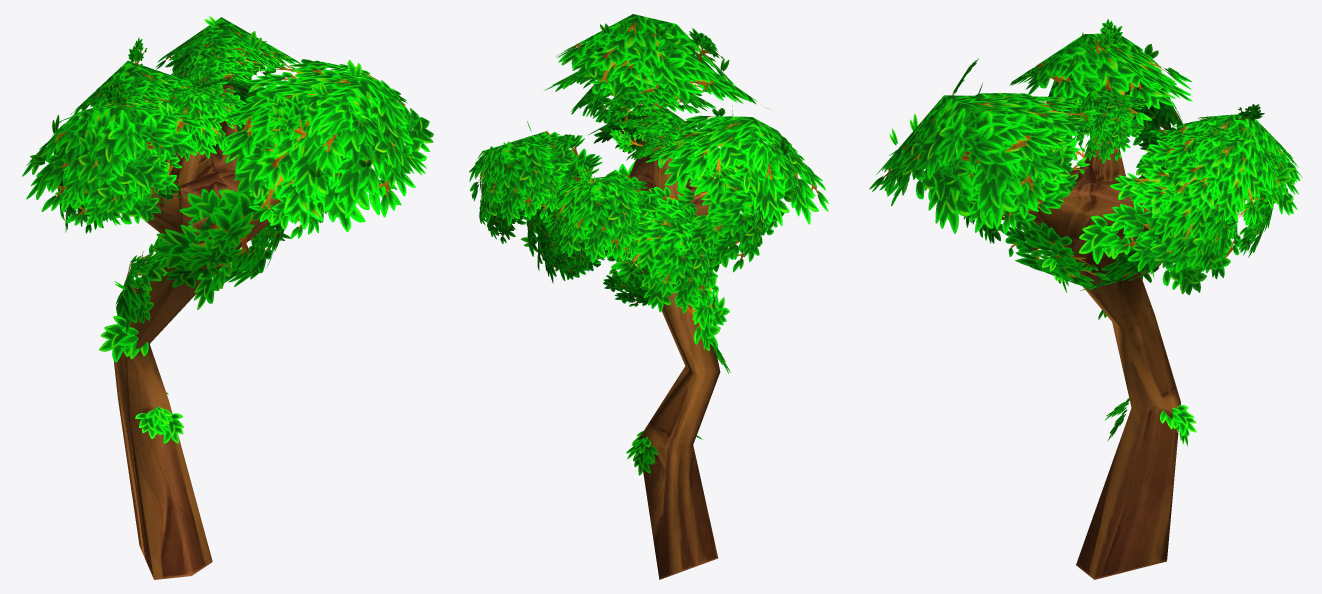
File: 6_Verde_Claro_LOD_1.fbx
3 views of the same model, side by side, from view 1: azimuth 30°, elevation 25°; view 2: azimuth 150°, elevation 25°; view 3: azimuth 270°, elevation 25° (orthographic). The views are drawn at different scales.
Parts seen in each view (by area): view 1: 6_Verde_Claro_LOD_1; view 2: 6_Verde_Claro_LOD_1; view 3: 6_Verde_Claro_LOD_1.
Boxes of the visible parts, x1,y1,x2,y2 form: 6_Verde_Claro_LOD_1: (22, 16, 433, 579); 6_Verde_Claro_LOD_1: (469, 14, 828, 579); 6_Verde_Claro_LOD_1: (869, 19, 1302, 579).
Bounding box in the file's own units: 528 × 773 × 574.
